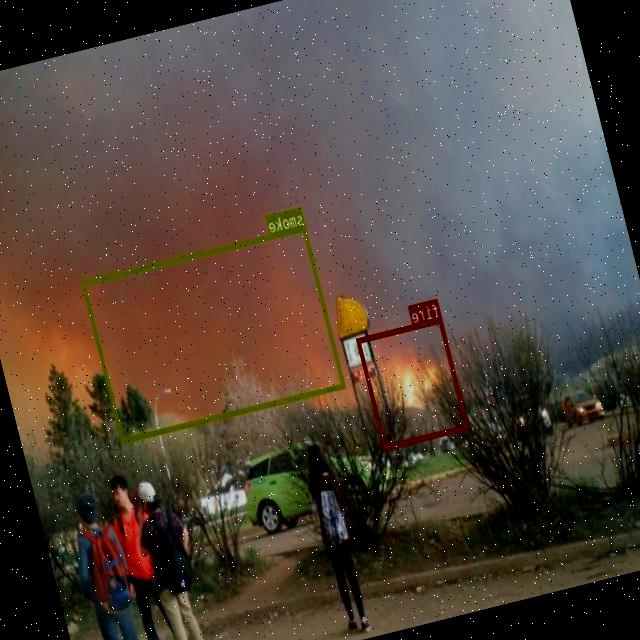fire: (356, 316, 469, 448)
smoke: (81, 224, 346, 442)
